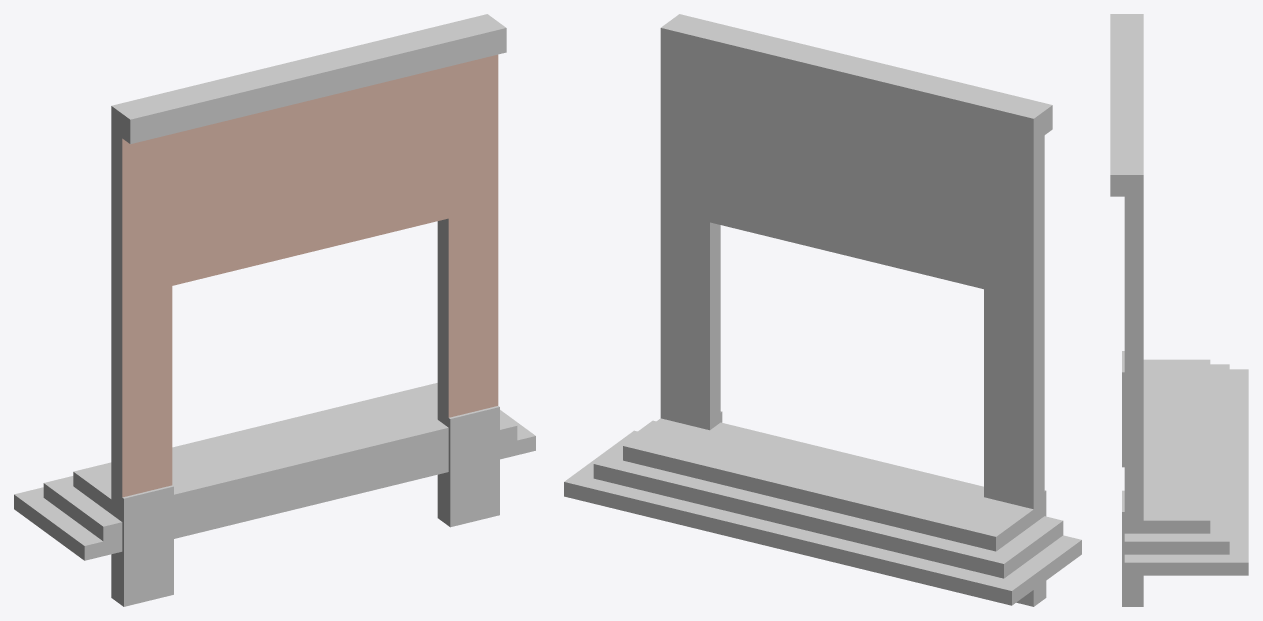
The model's file is Entrance_WallSlidingDoor.fbx.
The picture shows the model from 3 angles, left to right: view 1: azimuth 30°, elevation 25°; view 2: azimuth 150°, elevation 25°; view 3: azimuth 270°, elevation 25°; orthographic projection. The views are drawn at different scales.
Parts seen in each view (by area): view 1: Entrance_WallSlidingDoor; view 2: Entrance_WallSlidingDoor; view 3: Entrance_WallSlidingDoor.
Part boxes in pixels (x1,y1,x2,y2): Entrance_WallSlidingDoor: (14, 14, 535, 606); Entrance_WallSlidingDoor: (564, 14, 1081, 606); Entrance_WallSlidingDoor: (1110, 14, 1248, 606).
Bounding box in the file's own units: 4.8 × 5 × 1.45.
